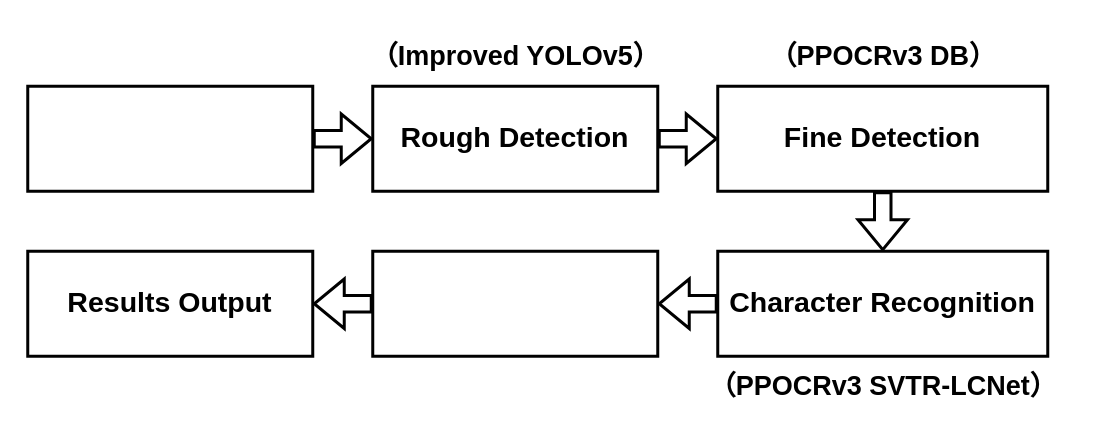
The diagram is 1103 pixels wide and 441 high, and some of its shapes have lost their labels. The centre of each missing label's shape, as x and y in pixels:
"Data comparison" goes at (x=514, y=303).
"Image Input" goes at (x=170, y=138).
